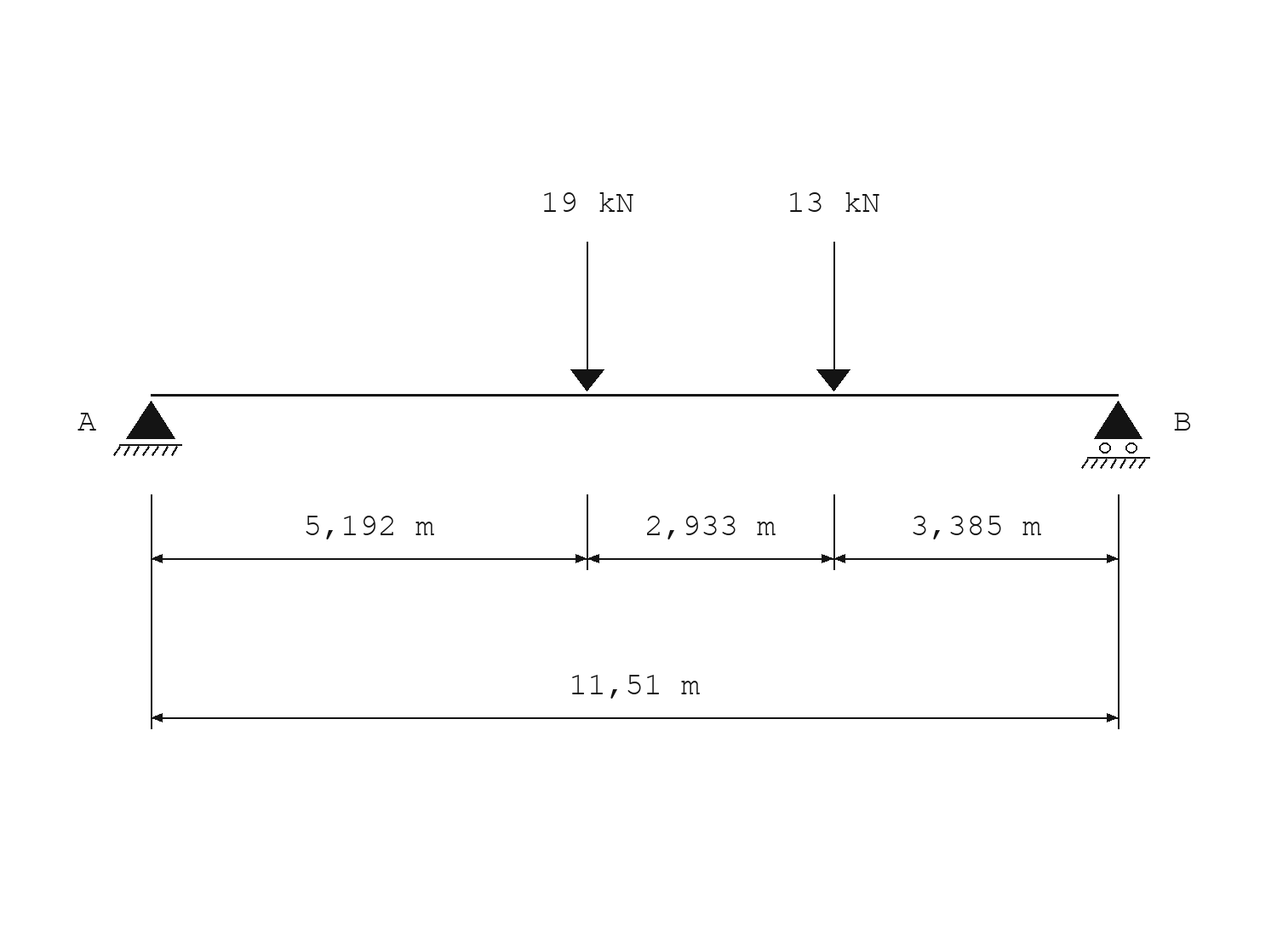pin_support: (113, 401, 182, 456)
point_load: (570, 242, 604, 391), (816, 242, 850, 391)
roller_support: (1081, 401, 1150, 469)
